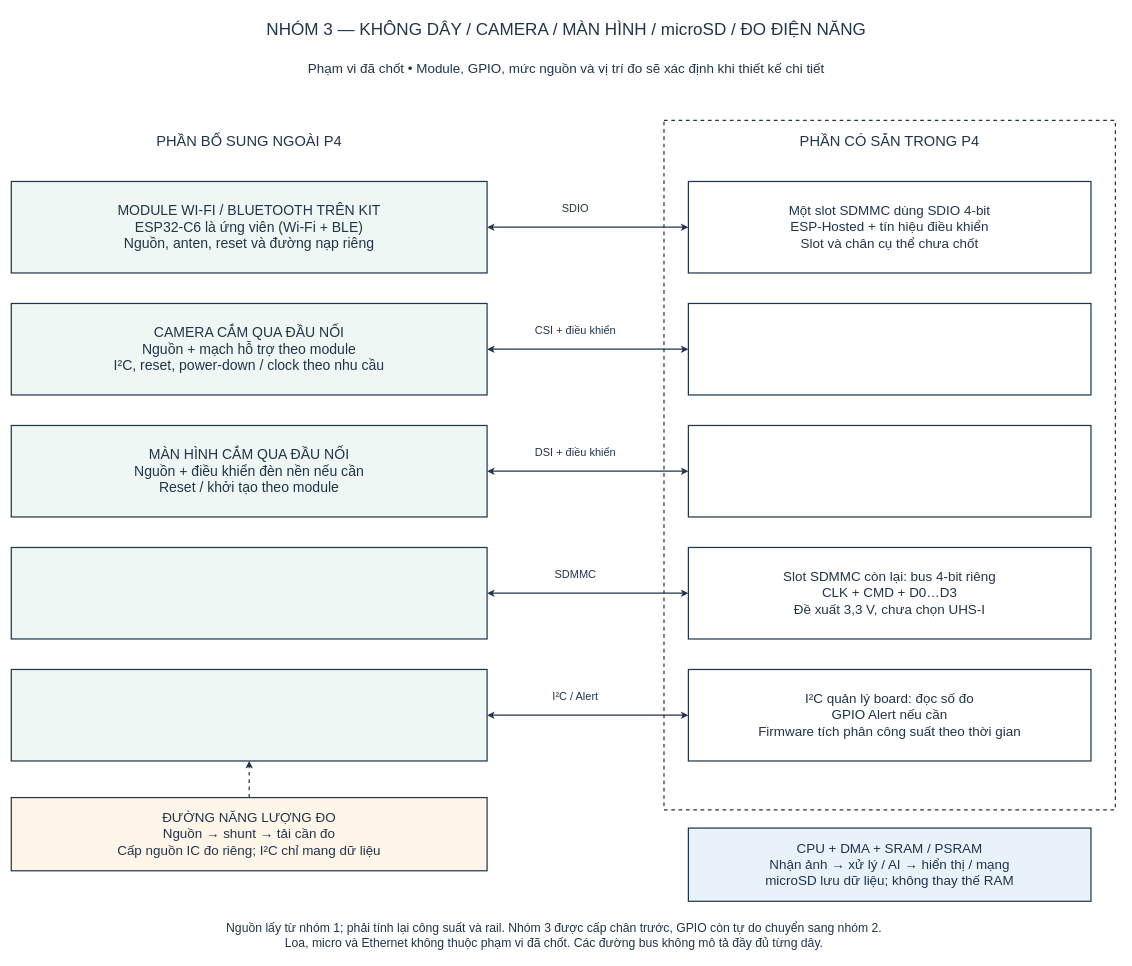
Image size: 1132x966. Some labels were removed from this diagram. Each missing label, with the centre of its shape:
"KHE THẺ microSD Nguồn, pull-up và bảo vệ theo giao tiếp Card Detect nếu dùng" goes at (248,593).
"KHỐI ĐO ĐIỆN NĂNG Shunt + IC đo dòng / áp Mắc trên đường nguồn cần đo" goes at (248,715).
"MIPI-CSI + ISP: nhận / xử lý ảnh Bus I²C dành cho camera GPIO cho tín hiệu phụ" goes at (889,349).
"MIPI-DSI: xuất dữ liệu hiển thị GPIO / PWM / I²C theo module Chưa chốt cảm ứng" goes at (889,471).
